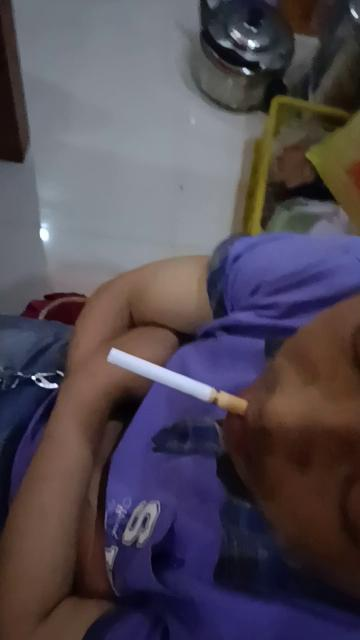Cigarette: (107, 345, 251, 417)
